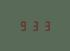nine: (18, 20, 28, 31)
three: (30, 20, 40, 31), (41, 20, 51, 31)
